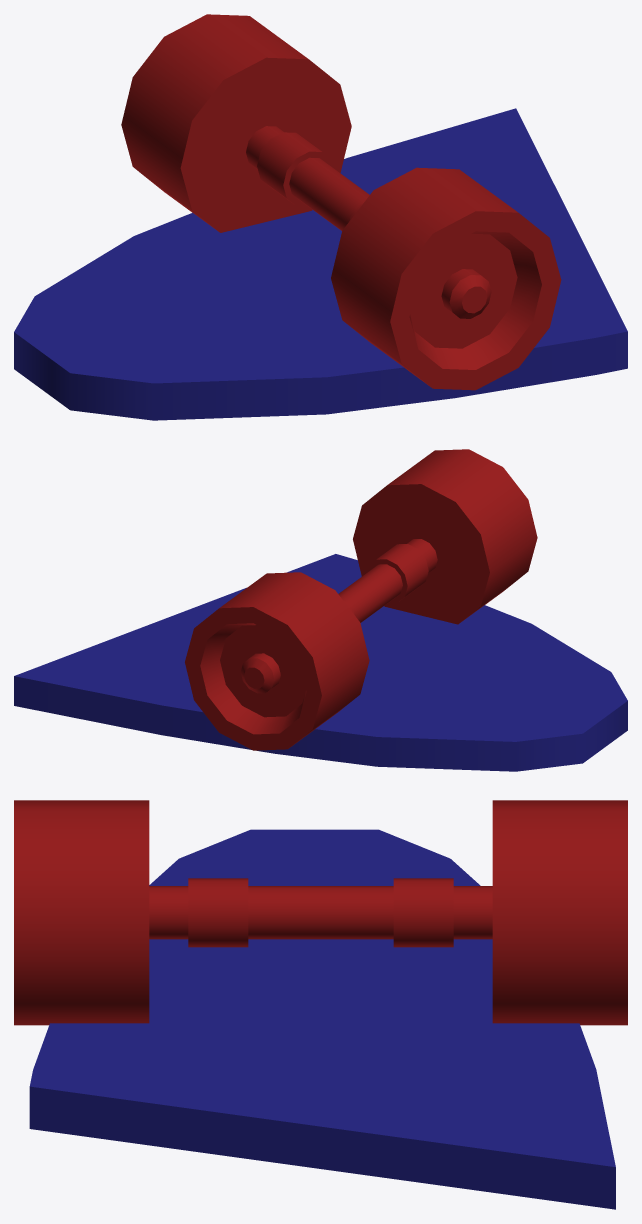
Rendered from SkateboardPart1.fbx.
3 views of the same model, one above another, from view 1: azimuth 30°, elevation 25°; view 2: azimuth 150°, elevation 25°; view 3: azimuth 270°, elevation 25° (orthographic). The views are drawn at different scales.
Visible parts, largest first — view 1: SkateboardPart1; view 2: SkateboardPart1; view 3: SkateboardPart1.
Boxes of the visible parts, box(x1,y1,x2,y2) form: SkateboardPart1: box(14, 14, 627, 420); SkateboardPart1: box(14, 449, 627, 771); SkateboardPart1: box(14, 800, 627, 1209).
Size of the model in its own units: 39.72 by 12.61 by 30.53.
